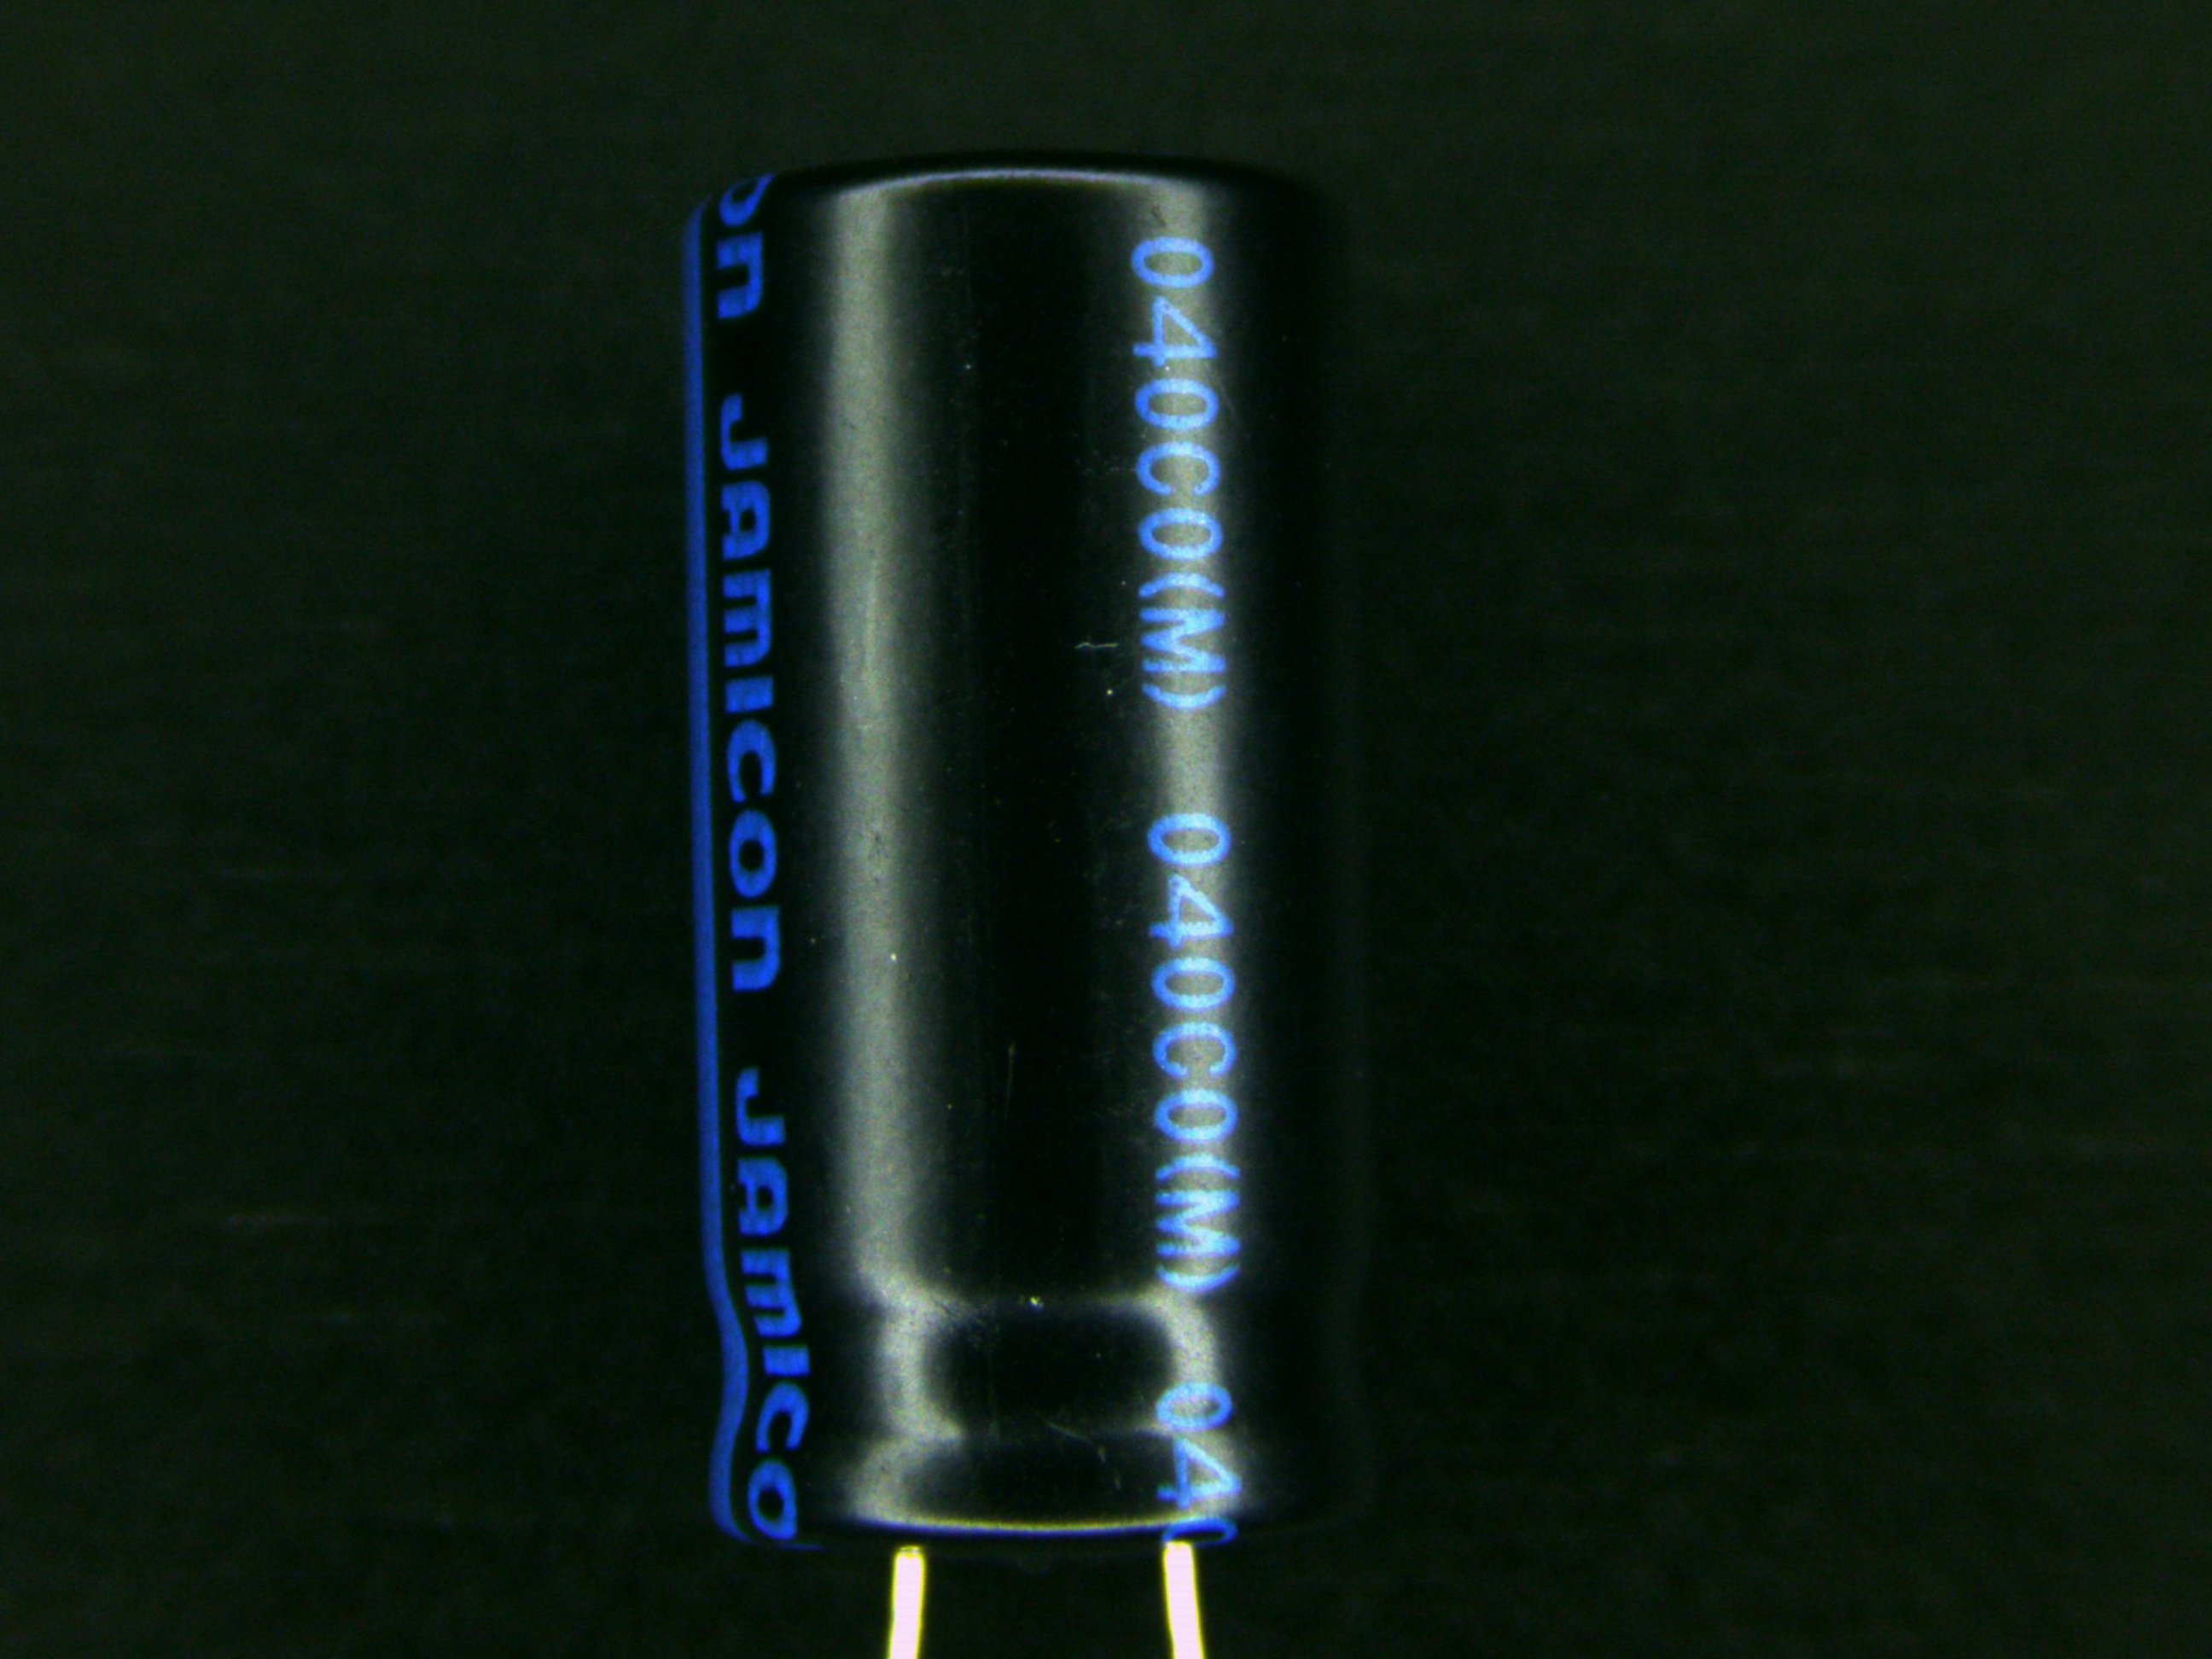c2: (674, 146, 1379, 1640)
